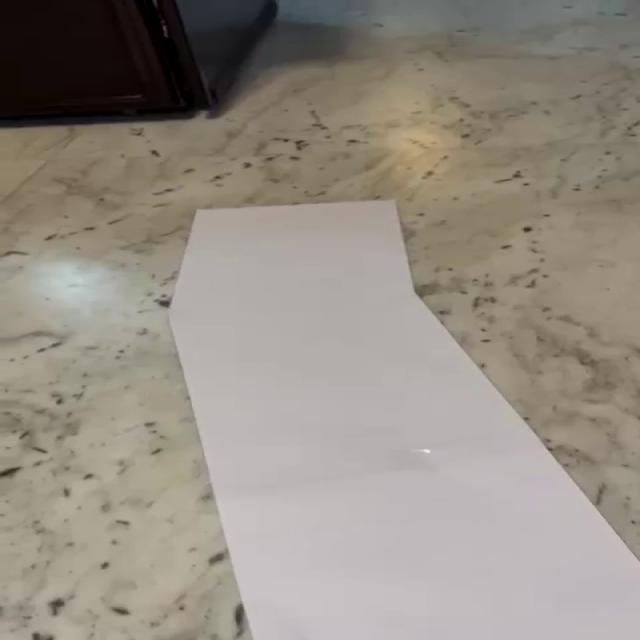road: (169, 202, 637, 640)
